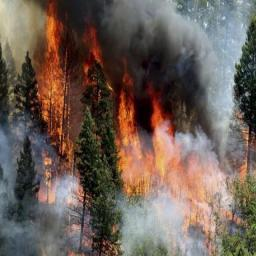Heavy smoke: (112, 19, 217, 108), (43, 0, 212, 43)
Large fire: (40, 3, 101, 209), (113, 83, 176, 201)
Low smoke: (1, 122, 37, 252), (116, 207, 171, 254)
Medium fire: (173, 151, 237, 240)
